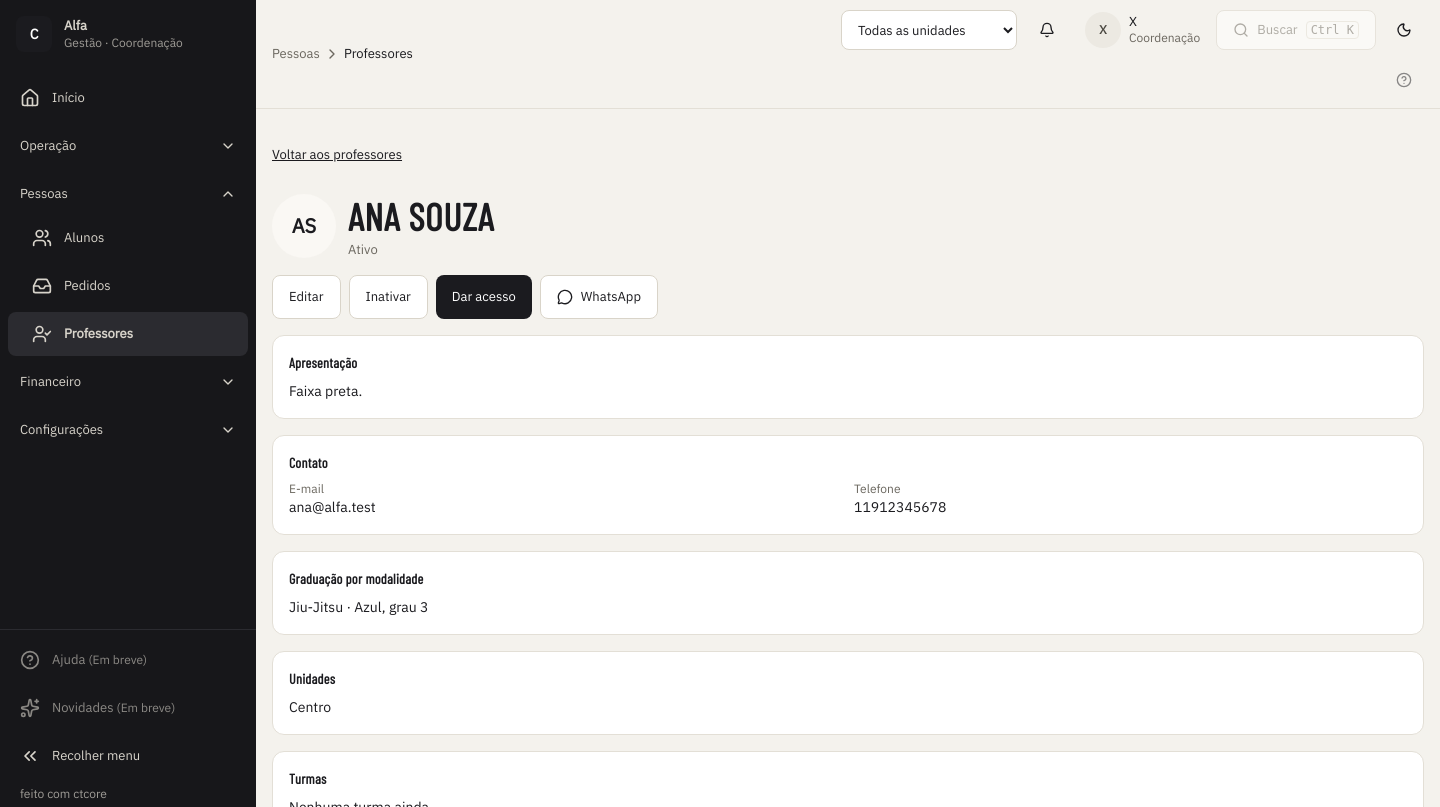
TeacherFormDialog (RF-PRO-03, CA12) › edita a partir do painel: abre preenchido, envia PUT e o painel mostra o nome novo; sem foto mostra iniciais
The image size is (1440, 807).
Expected: the heading "Ana Souza" is shown, x1=348 y1=193 x2=494 y2=240
Click the button "Editar".
click(306, 297)  # box x1=272 y1=275 x2=340 y2=319
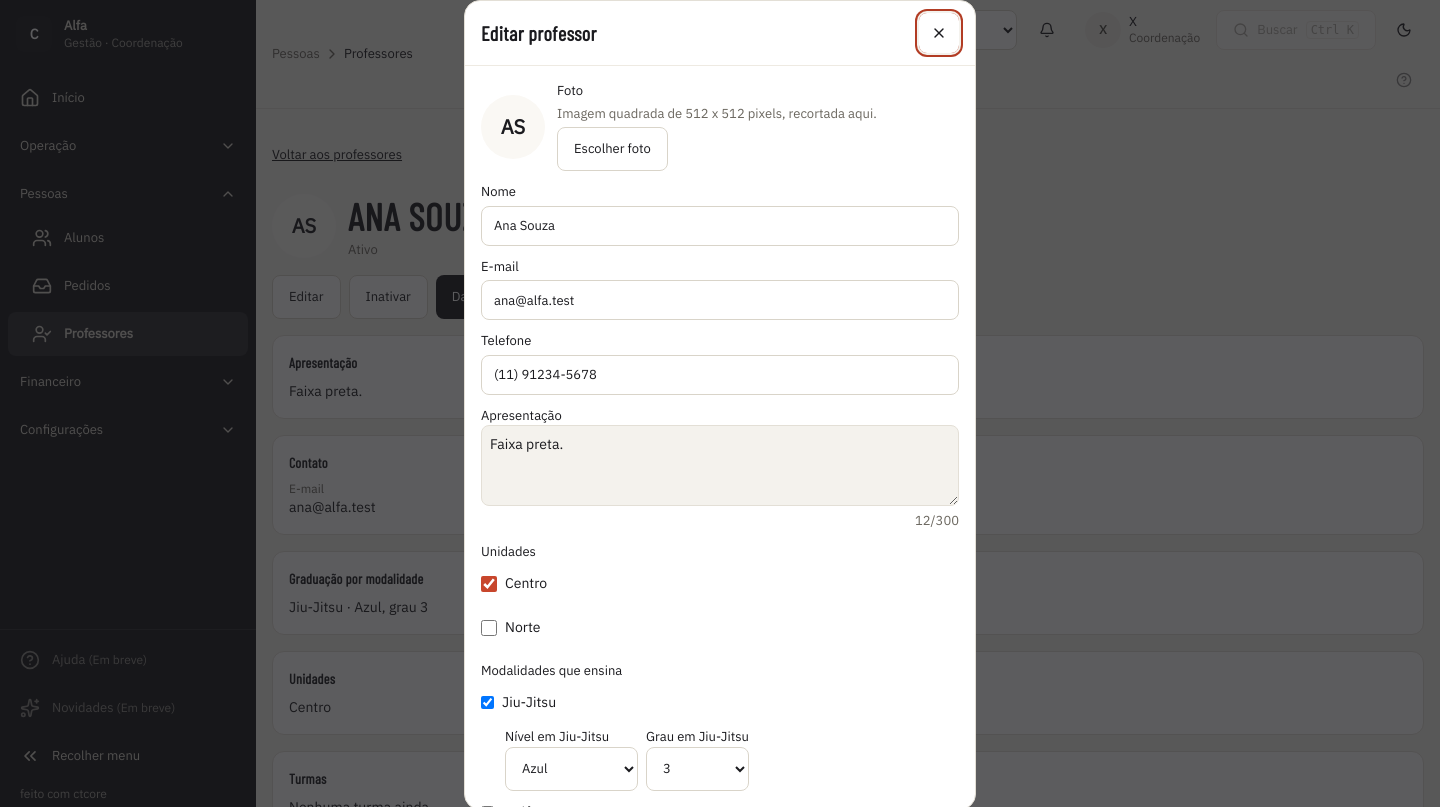
Expected: the field labelled "Nome" holds "Ana Souza"
Expected: the field labelled "Telefone" holds "(11) 91234-5678", x1=481 y1=355 x2=959 y2=395
Expected: the checkbox labelled "Centro" is checked, x1=481 y1=576 x2=497 y2=592
Replace the text in the field labelled "Nome" with "Ana Maria" at (720, 226), box x1=481 y1=206 x2=959 y2=246
(page scrolled)
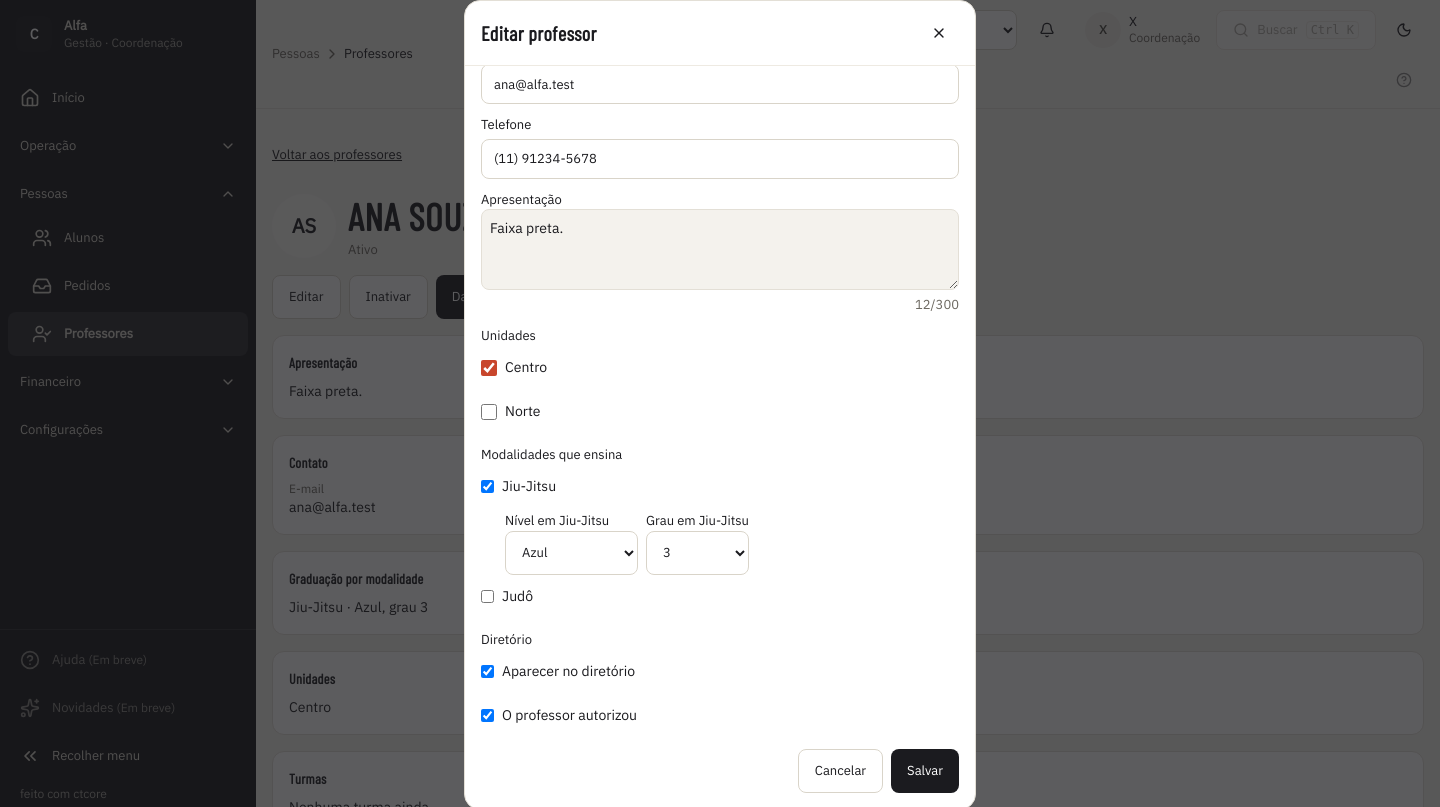
Click the button "Salvar".
click(925, 771)  # box x1=891 y1=749 x2=959 y2=793
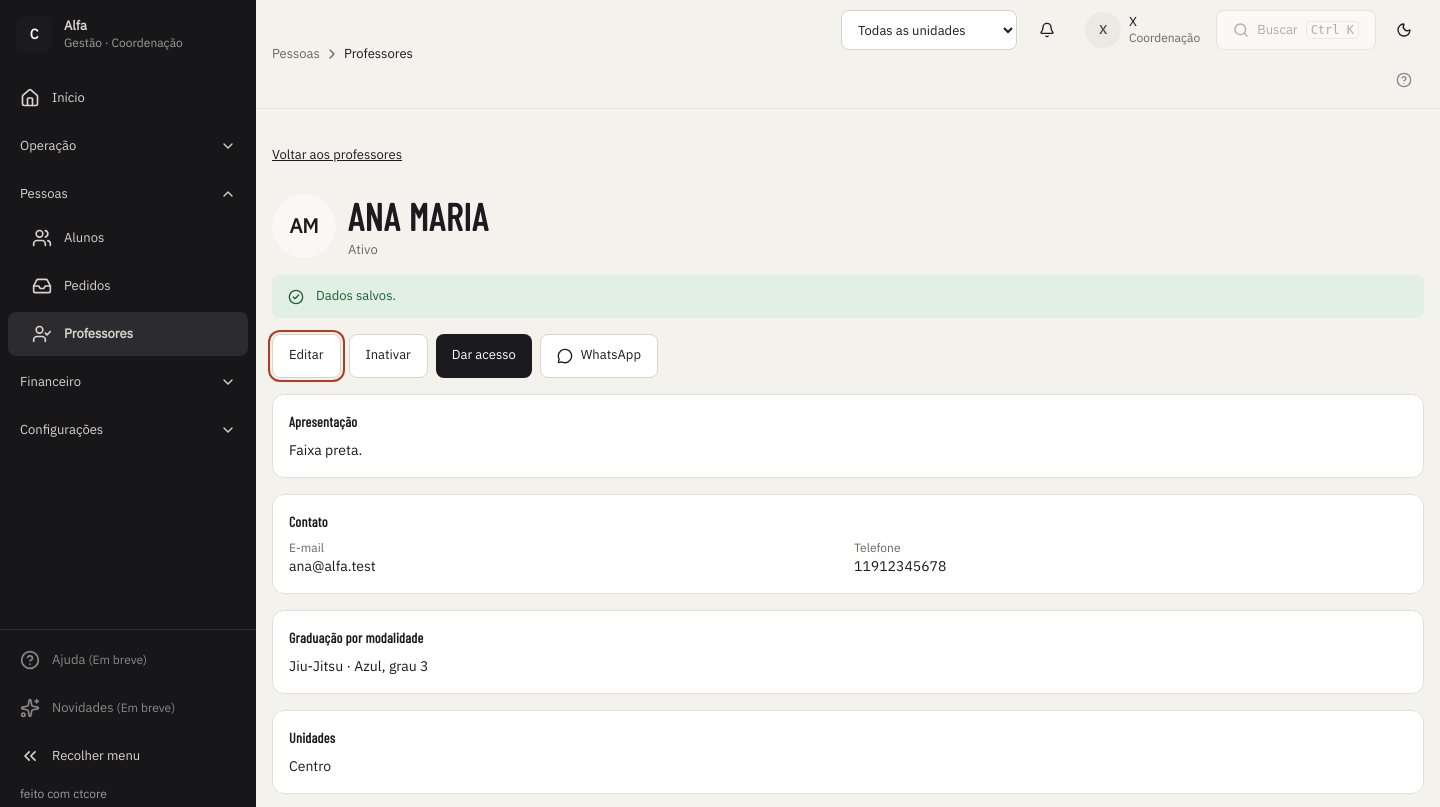
Expected: the heading "Ana Maria" is shown, x1=348 y1=193 x2=488 y2=240
Expected: the text "Dados salvos." is shown, x1=316 y1=287 x2=396 y2=306
